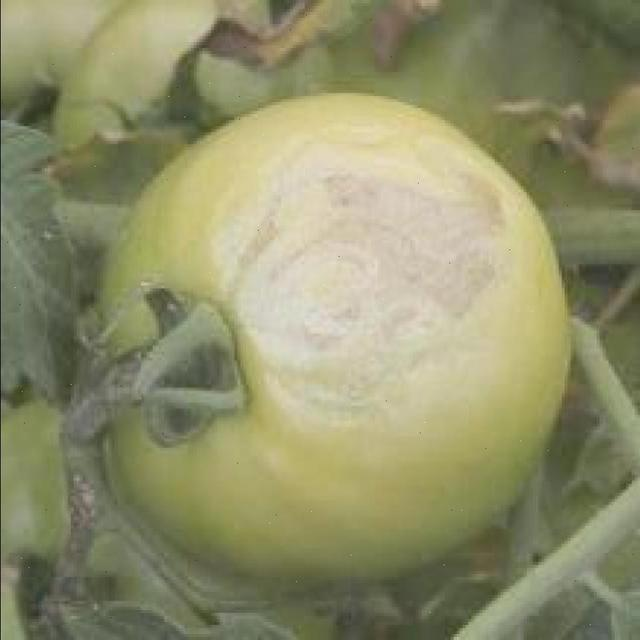Sunscald Fruit: (128, 79, 337, 278)
